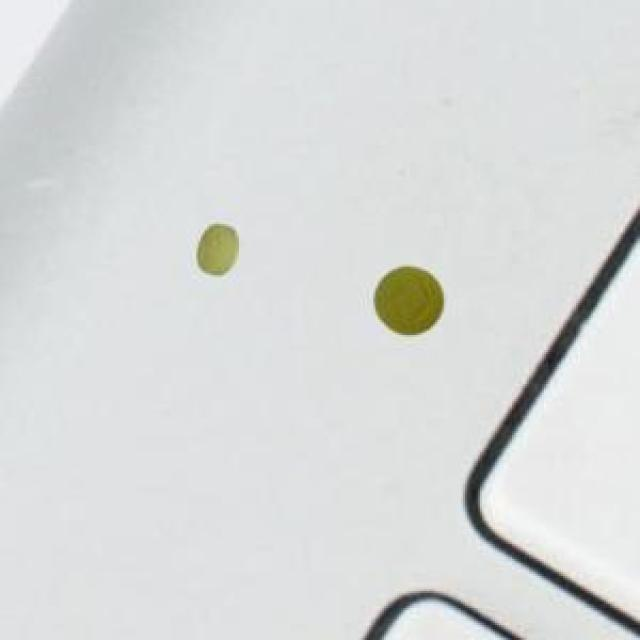Decolgen: (364, 256, 450, 345), (190, 220, 247, 286)
